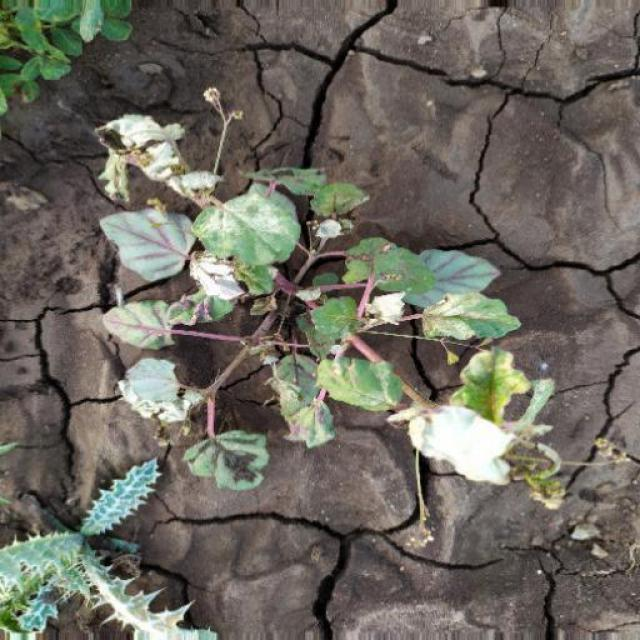weed: (85, 105, 575, 533)
